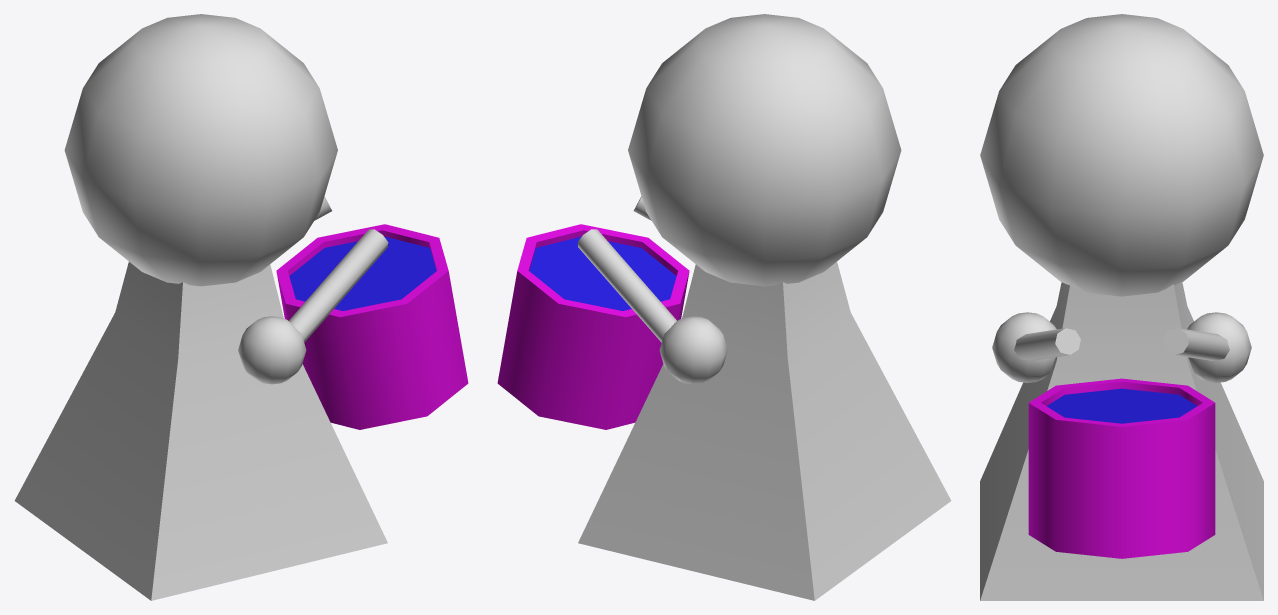
The model's file is Drummer.fbx.
3 views of the same model, side by side, from view 1: azimuth 30°, elevation 25°; view 2: azimuth 150°, elevation 25°; view 3: azimuth 270°, elevation 25° (orthographic). The views are drawn at different scales.
Parts seen in each view (by area): view 1: Body, Head, Drum, LeftHand, Stick; view 2: Body, Head, Drum, Righthand, Stick.001; view 3: Head, Body, Drum, LeftHand, Righthand, Stick, Stick.001.
Boxes of the visible parts, left/top/right/bottom form: Body: left=14, top=262, right=387, bottom=600; Head: left=64, top=14, right=337, bottom=286; Drum: left=276, top=224, right=468, bottom=429; LeftHand: left=238, top=316, right=306, bottom=384; Stick: left=289, top=229, right=388, bottom=342; Body: left=578, top=262, right=951, bottom=600; Head: left=628, top=14, right=901, bottom=286; Drum: left=497, top=224, right=689, bottom=429; Righthand: left=659, top=316, right=727, bottom=384; Stick.001: left=577, top=229, right=676, bottom=342; Head: left=980, top=14, right=1263, bottom=296; Body: left=980, top=282, right=1263, bottom=600; Drum: left=1028, top=378, right=1215, bottom=558; LeftHand: left=992, top=312, right=1056, bottom=382; Righthand: left=1187, top=312, right=1251, bottom=382; Stick: left=1014, top=328, right=1080, bottom=360; Stick.001: left=1163, top=328, right=1229, bottom=360.
Size of the model in its own units: 3.18 by 4 by 2.
